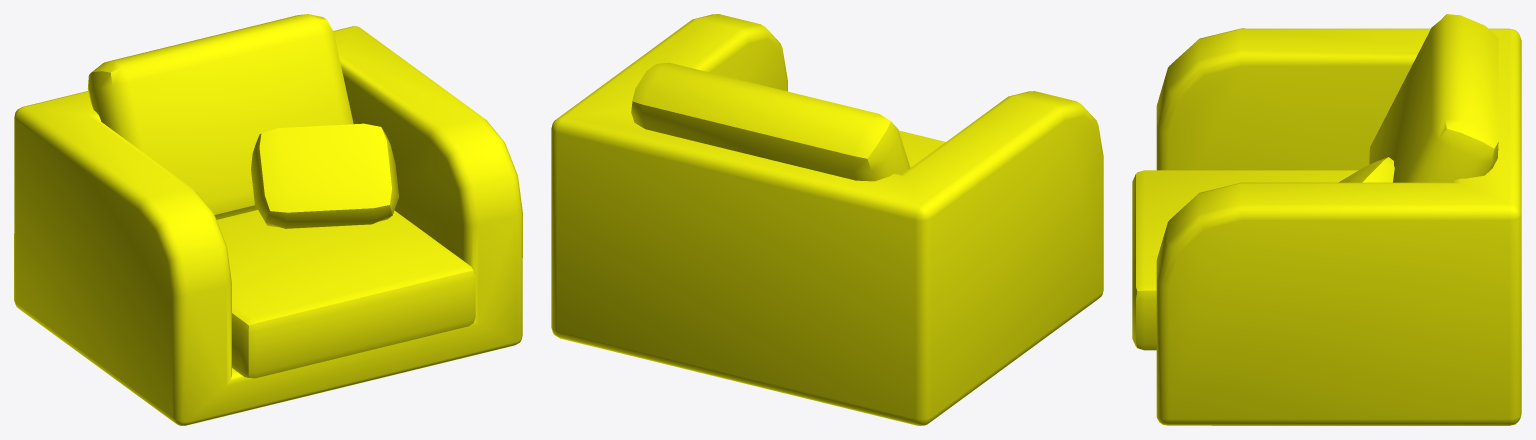
Rendered from kaykit-armchair-pillows.glb.
3 views of the same model, side by side, from view 1: azimuth 30°, elevation 25°; view 2: azimuth 150°, elevation 25°; view 3: azimuth 270°, elevation 25° (orthographic). The views are drawn at different scales.
Parts seen in each view (by area): view 1: armchair_pillows; view 2: armchair_pillows; view 3: armchair_pillows.
Part boxes in pixels (x1,y1,x2,y2): armchair_pillows: [14, 14, 522, 425]; armchair_pillows: [551, 14, 1103, 425]; armchair_pillows: [1132, 14, 1521, 425].
Bounding box in the file's own units: 1.8 × 1.22 × 1.6.
